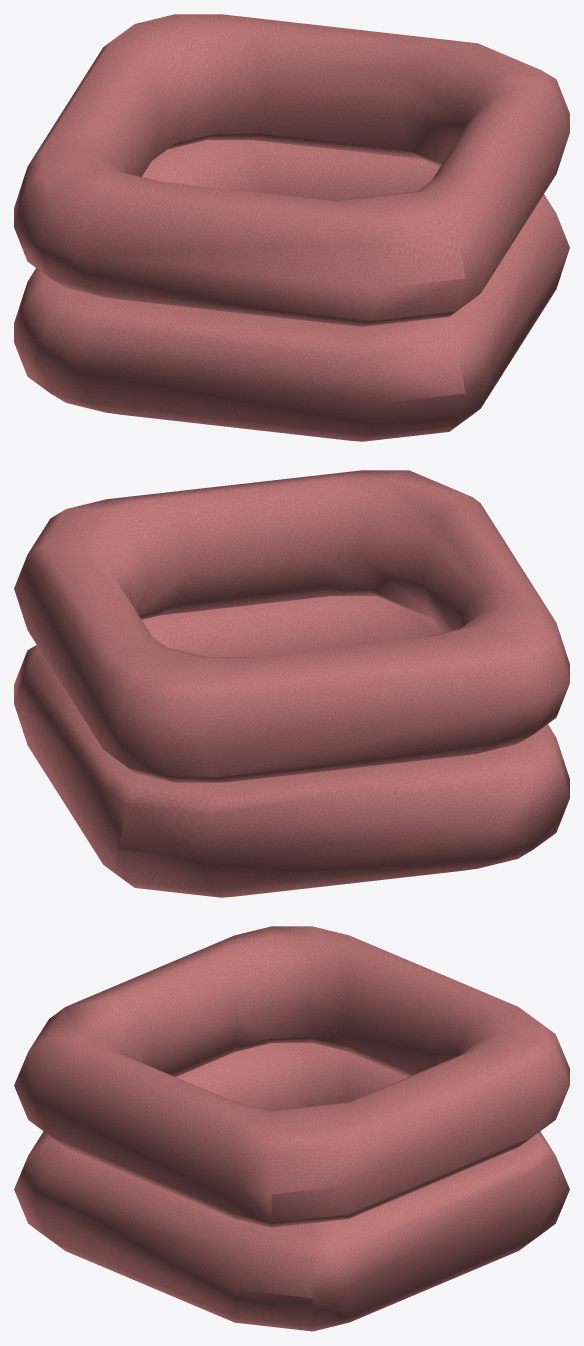
File: OBS0110291.fbx
3 renders of one model, top to bottom at view 1: azimuth 30°, elevation 25°; view 2: azimuth 150°, elevation 25°; view 3: azimuth 270°, elevation 25°, orthographic. The views are drawn at different scales.
Visible parts, largest first — view 1: smOBS0110291; view 2: smOBS0110291; view 3: smOBS0110291.
Part boxes in pixels (x1,y1,x2,y2): smOBS0110291: [14, 14, 569, 441]; smOBS0110291: [14, 470, 569, 897]; smOBS0110291: [14, 926, 569, 1331].
Size of the model in its own units: 117 by 48.53 by 117.
Materials: 1 (1 with a texture image).
